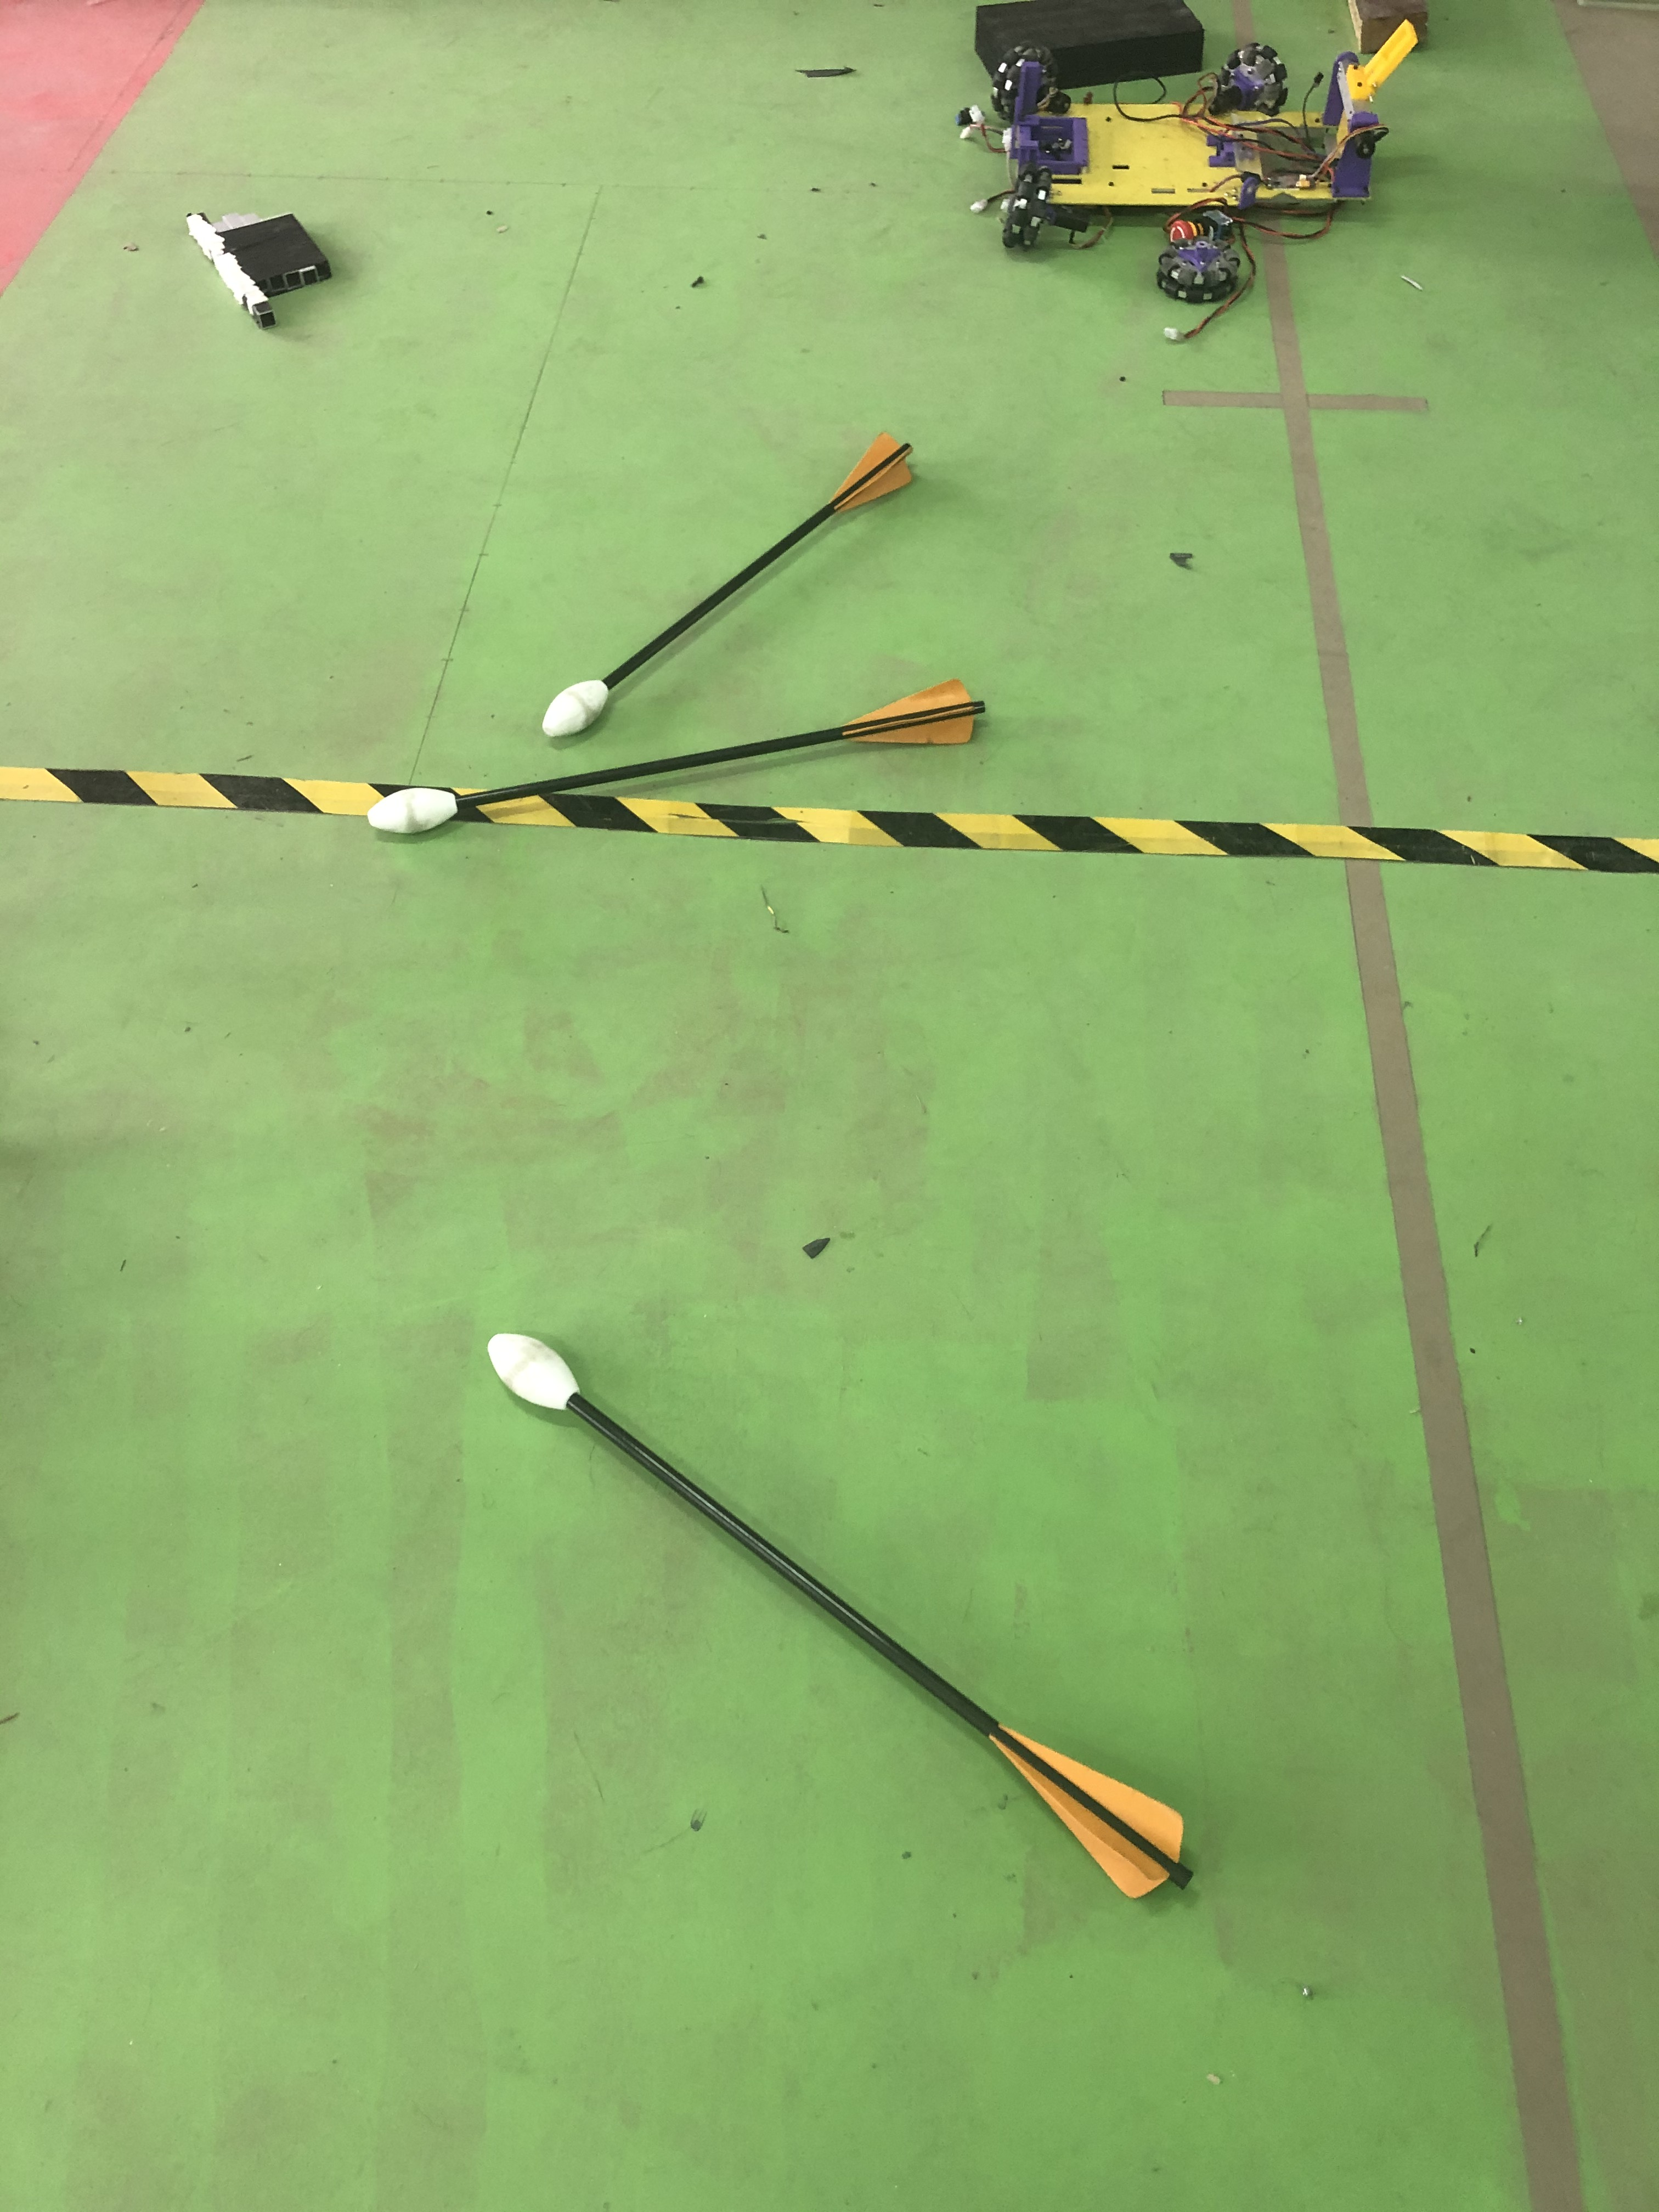arrow: (483, 1336, 1206, 1909), (538, 435, 927, 740), (371, 681, 985, 873)
arrowFront: (479, 1332, 582, 1413), (538, 672, 622, 742), (369, 782, 464, 841)
